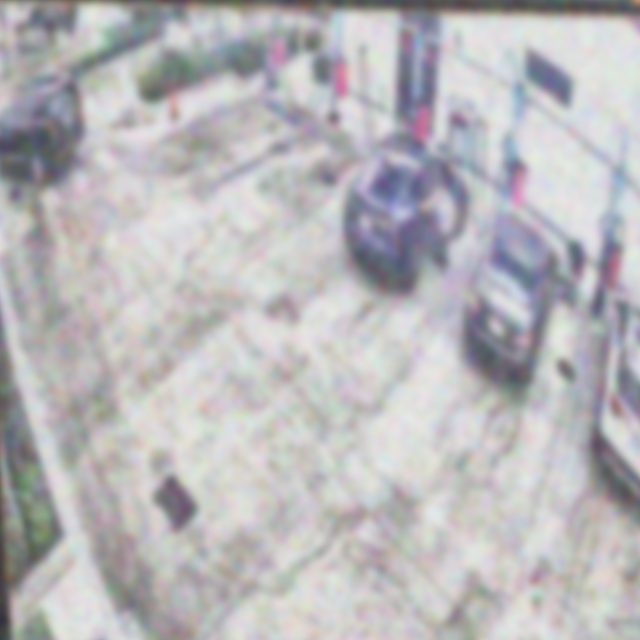Car: (341, 130, 471, 287), (466, 211, 558, 383)
